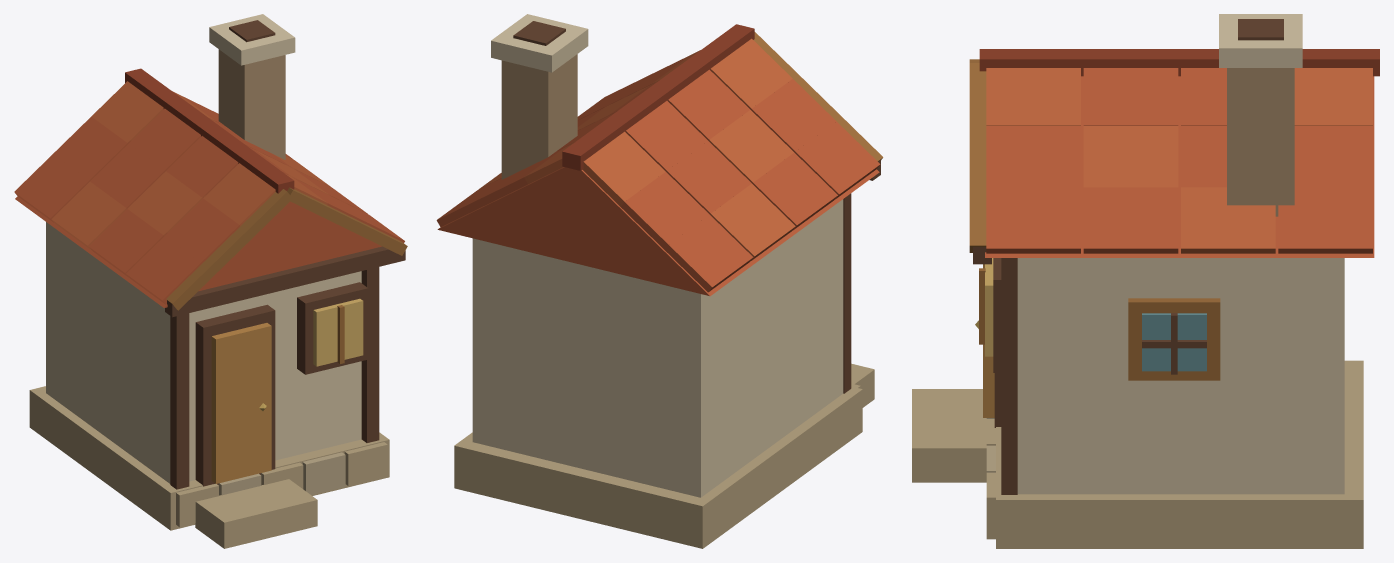
Rendered from house.gltf.
3 renders of one model, left to right at view 1: azimuth 30°, elevation 25°; view 2: azimuth 150°, elevation 25°; view 3: azimuth 270°, elevation 25°, orthographic. The views are drawn at different scales.
Parts seen in each view (by area): view 1: house; view 2: house; view 3: house.
Boxes of the visible parts, x1,y1,x2,y2 form: house: (14, 14, 407, 548); house: (436, 14, 883, 548); house: (912, 14, 1379, 548).
Size of the model in its own units: 1.35 by 2.03 by 1.73.
